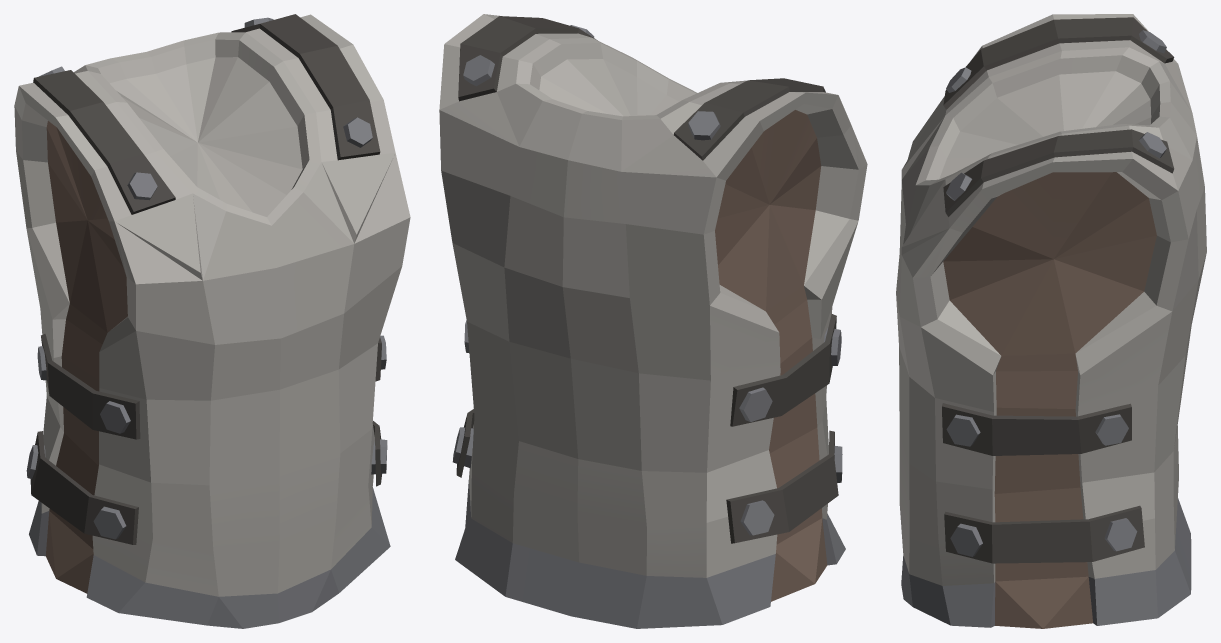
File: armorLeatherVestBlessDisplay.fbx
3 renders of one model, left to right at view 1: azimuth 30°, elevation 25°; view 2: azimuth 150°, elevation 25°; view 3: azimuth 270°, elevation 25°, orthographic. The views are drawn at different scales.
Visible parts, largest first — view 1: armorLeatherVestBlessDisplay; view 2: armorLeatherVestBlessDisplay; view 3: armorLeatherVestBlessDisplay.
Boxes of the visible parts, x1=… form: armorLeatherVestBlessDisplay: x1=14, y1=14, x2=410, y2=628; armorLeatherVestBlessDisplay: x1=439, y1=14, x2=867, y2=628; armorLeatherVestBlessDisplay: x1=896, y1=14, x2=1206, y2=628.
Bounding box in the file's own units: 0.8592 × 1.32 × 0.7415.
Materials: 1 (1 with a texture image).
